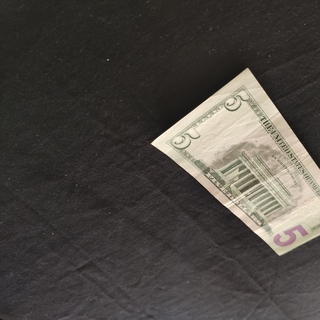5USDBack: (150, 67, 320, 256)
